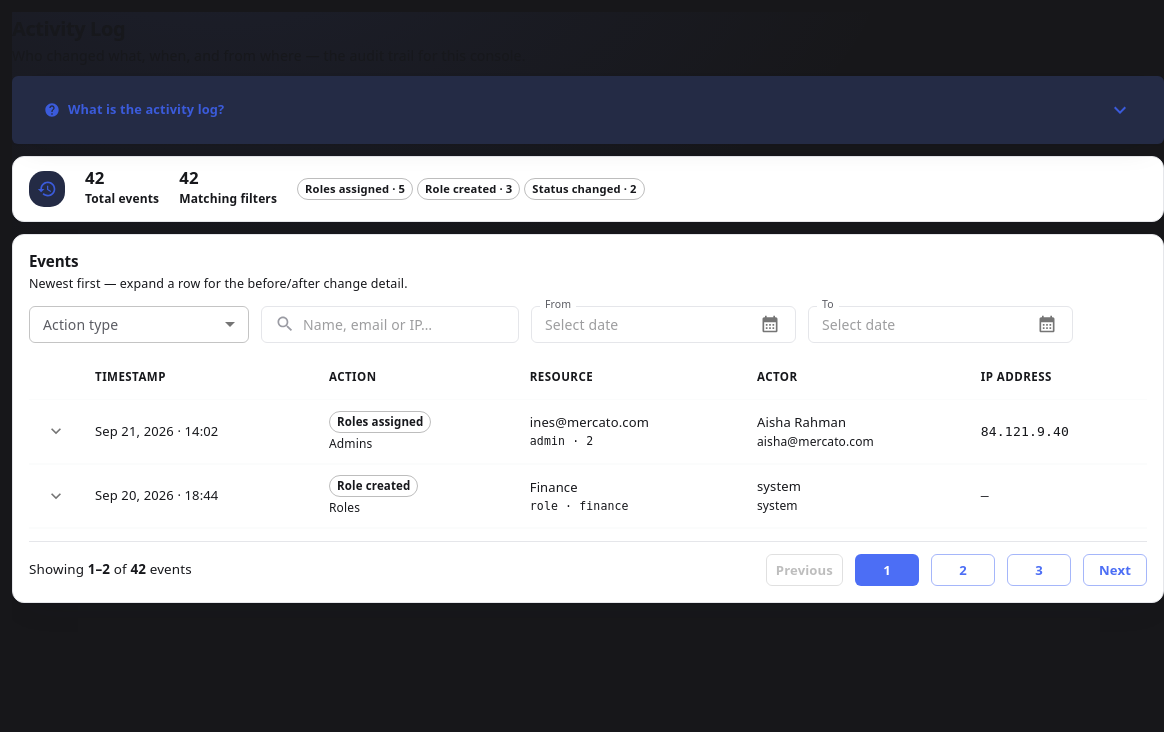
ActivityView (live API wiring) › debounced search is sent as q and resets to page 1
This screenshot has width=1164, height=732.
Check: the text "ines@mercato.com" is shown, box [530,413,649,431]
Type "aisha" into the search field named "Free-text search" at (411, 324), box [303,306,519,343]
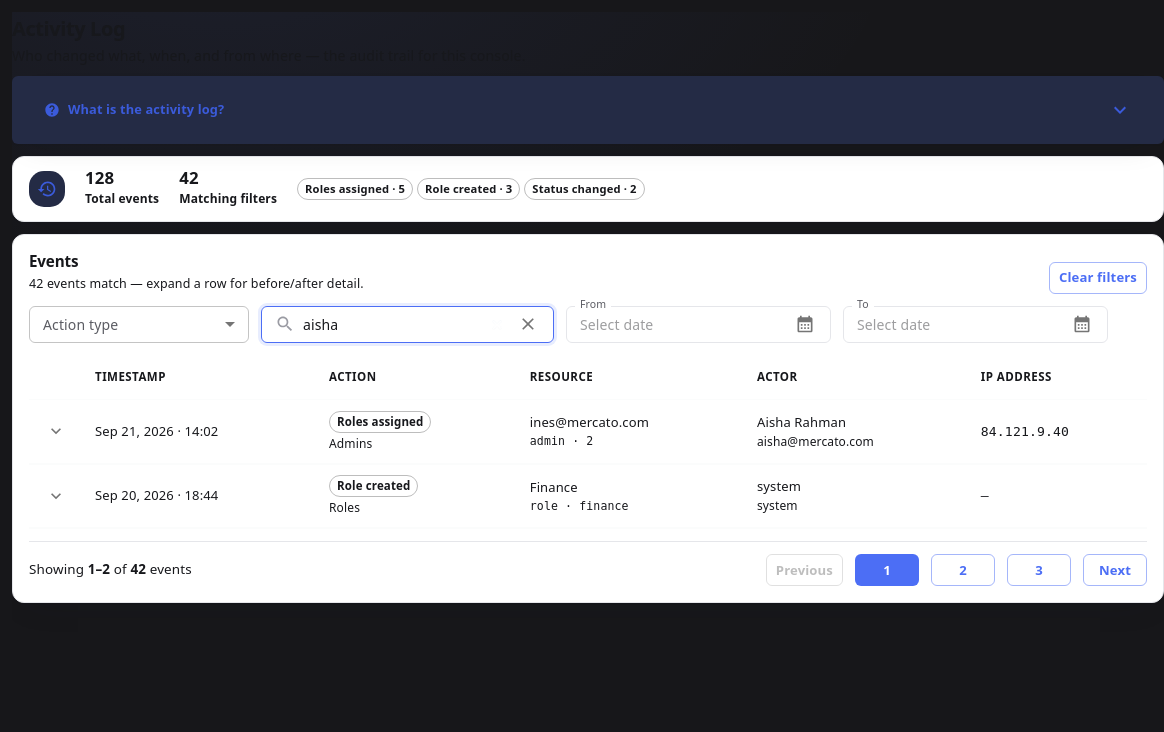
Check: the text "128" is shown, box [85,166,114,188]
